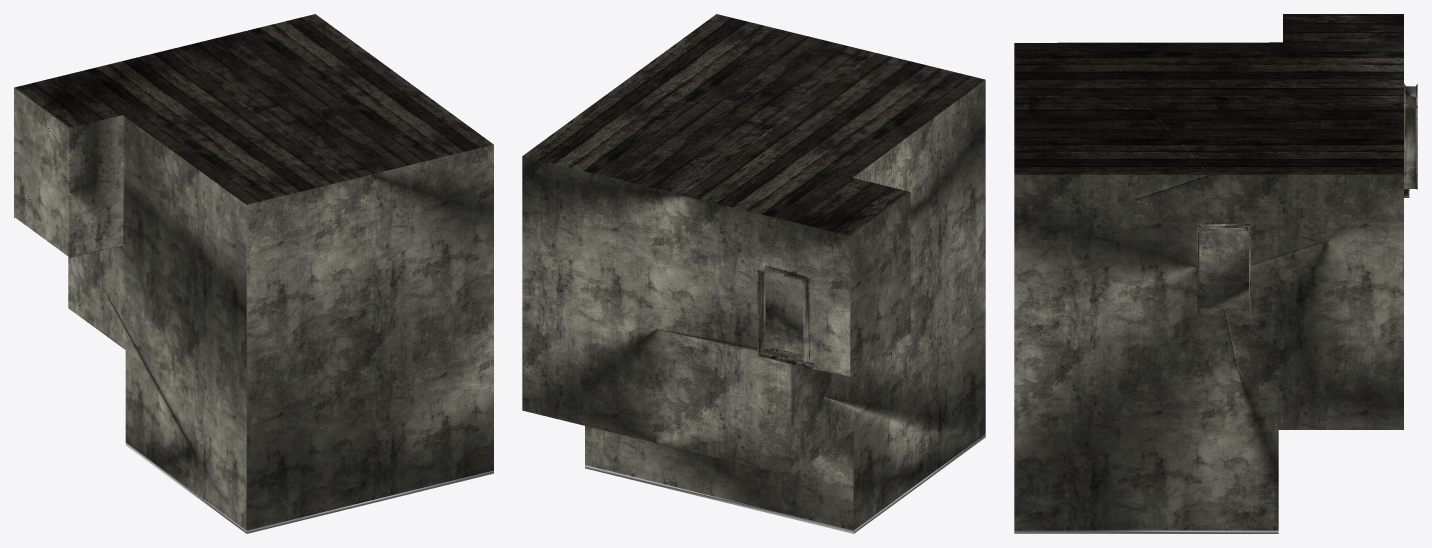
3 views of the same model, side by side, from view 1: azimuth 30°, elevation 25°; view 2: azimuth 150°, elevation 25°; view 3: azimuth 270°, elevation 25° (orthographic). The views are drawn at different scales.
Visible parts, largest first — view 1: mesh1, mesh3, mesh0; view 2: mesh1, mesh3, mesh0; view 3: mesh1, mesh3, mesh0.
Boxes of the visible parts, box(x1,y1,x2,y2) form: mesh1: box(14, 88, 493, 530); mesh3: box(14, 14, 493, 204); mesh0: box(125, 442, 493, 533); mesh1: box(522, 80, 985, 530); mesh3: box(523, 14, 984, 235); mesh0: box(585, 434, 985, 533); mesh1: box(1014, 83, 1417, 530); mesh3: box(1014, 14, 1403, 174); mesh0: box(1014, 530, 1278, 533).
Size of the model in its own units: 9.54 by 9.6 by 9.77.
